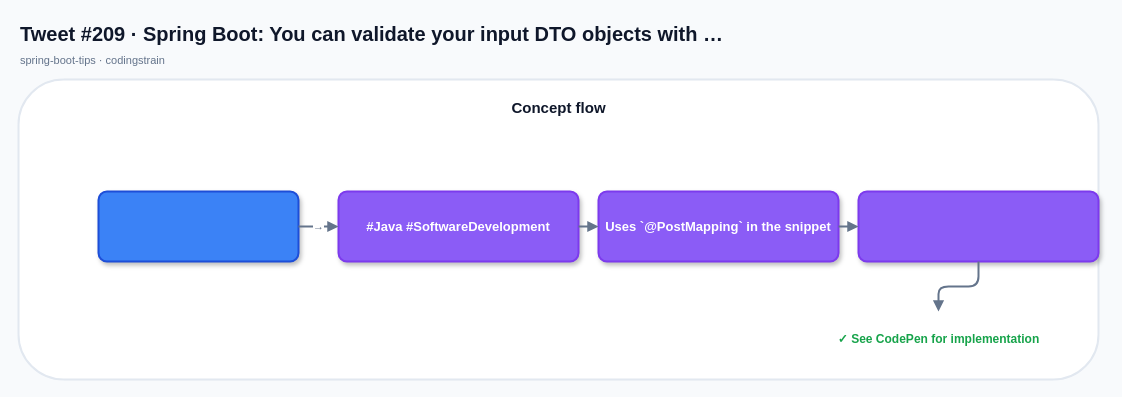
The diagram is 1122 pixels wide and 397 high, and some of its shapes have lost their labels. The shapes that lost their labels are listed below. From the top down, each one's centre as x and y in pixels, then its label:
At [199,227]: "Problem / context".
At [979,227]: "Runnable sample: `spring-boot-tips`".
